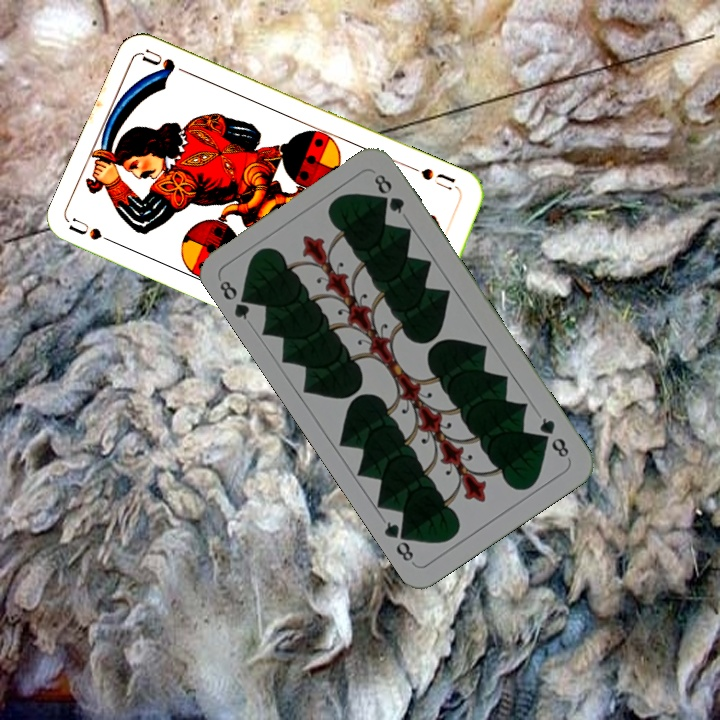G8: (215, 276, 257, 323), (535, 413, 572, 461)
SU: (66, 214, 124, 249), (417, 164, 464, 198)
